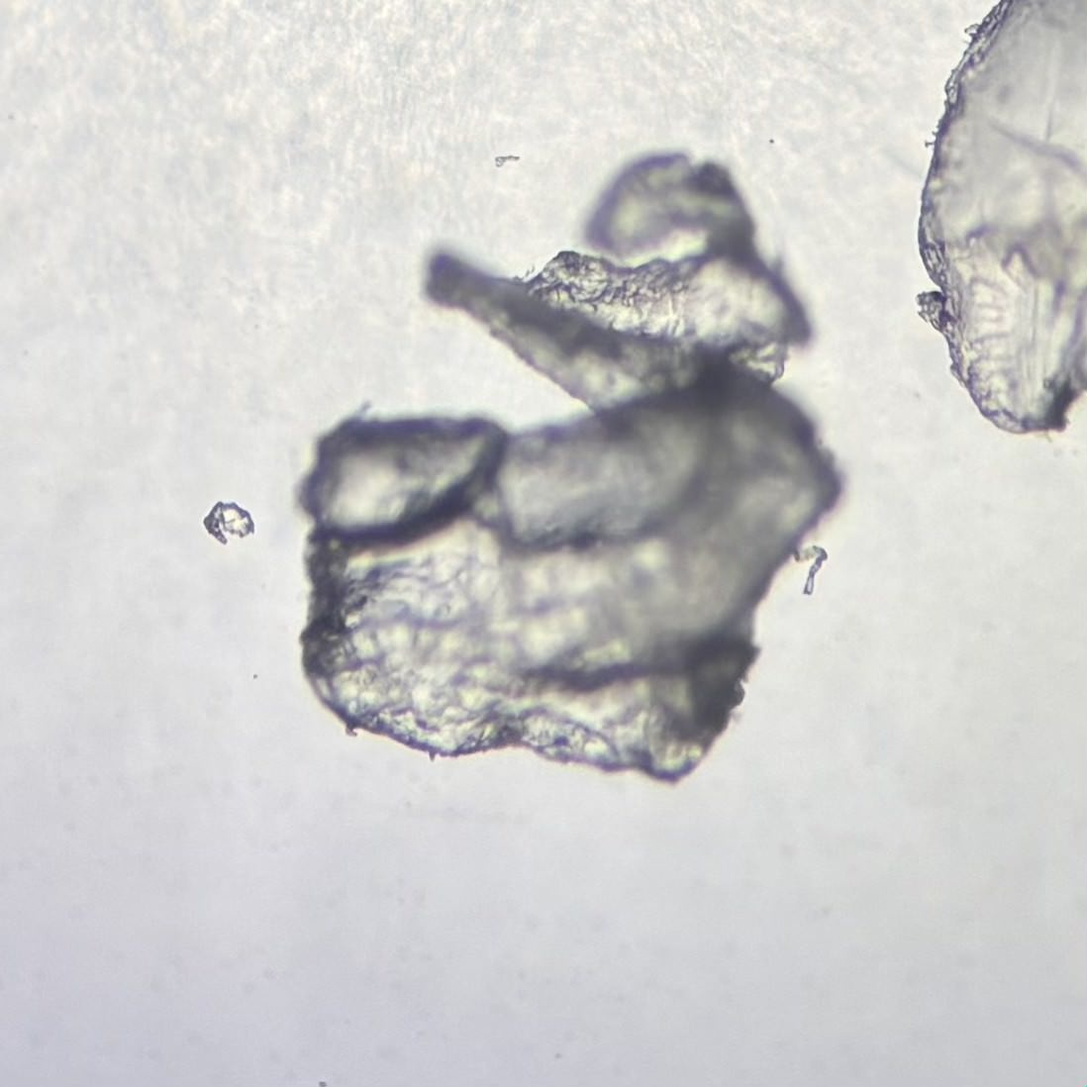microplastic: (291, 149, 847, 785), (915, 1, 1087, 435), (200, 497, 257, 547)
